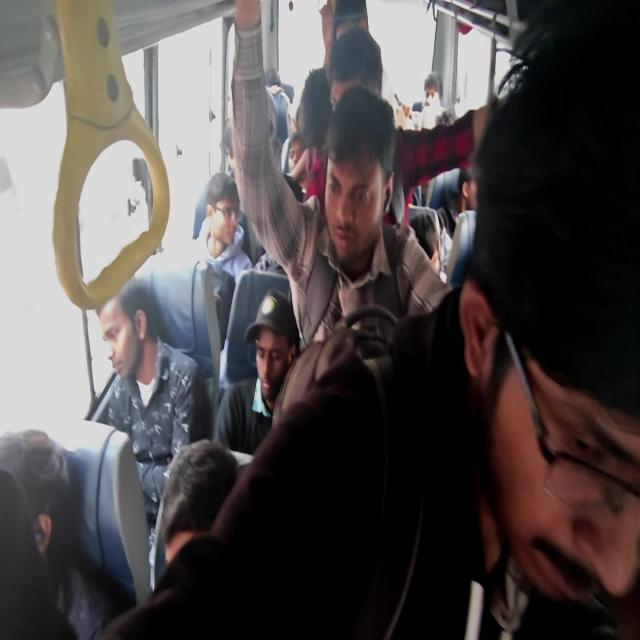person: (486, 323, 638, 608), (321, 83, 395, 262), (2, 443, 81, 590), (158, 438, 238, 560), (95, 276, 153, 391), (246, 289, 300, 403), (245, 180, 302, 275), (328, 27, 383, 101), (202, 170, 242, 252), (296, 66, 334, 150), (284, 131, 308, 190), (462, 163, 478, 214), (423, 72, 442, 102), (267, 66, 280, 96), (429, 245, 441, 272)
